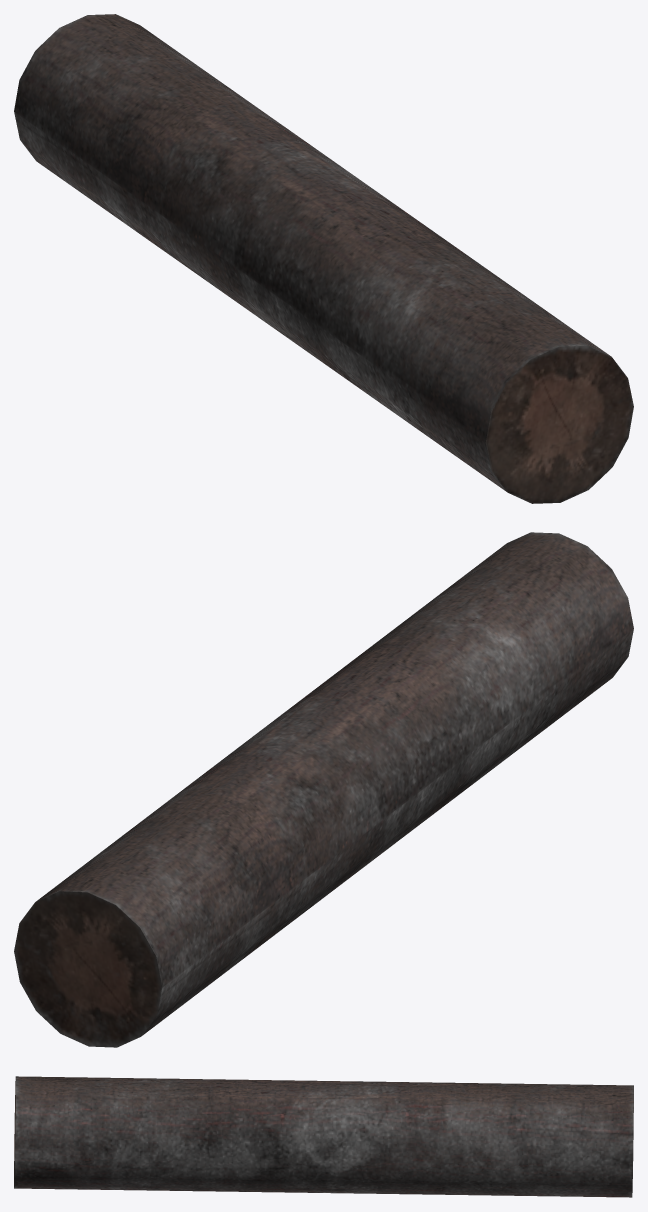
Rendered from SupportWoodB.glb.
3 renders of one model, top to bottom at view 1: azimuth 30°, elevation 25°; view 2: azimuth 150°, elevation 25°; view 3: azimuth 270°, elevation 25°, orthographic. The views are drawn at different scales.
Parts seen in each view (by area): view 1: SupportWoodB; view 2: SupportWoodB; view 3: SupportWoodB.
Boxes of the visible parts, x1,y1,x2,y2 form: SupportWoodB: [14, 14, 633, 503]; SupportWoodB: [14, 532, 633, 1047]; SupportWoodB: [14, 1076, 633, 1197].
Bounding box in the file's own units: 0.2251 × 0.2449 × 1.24.
Materials: 1 (1 with a texture image).
